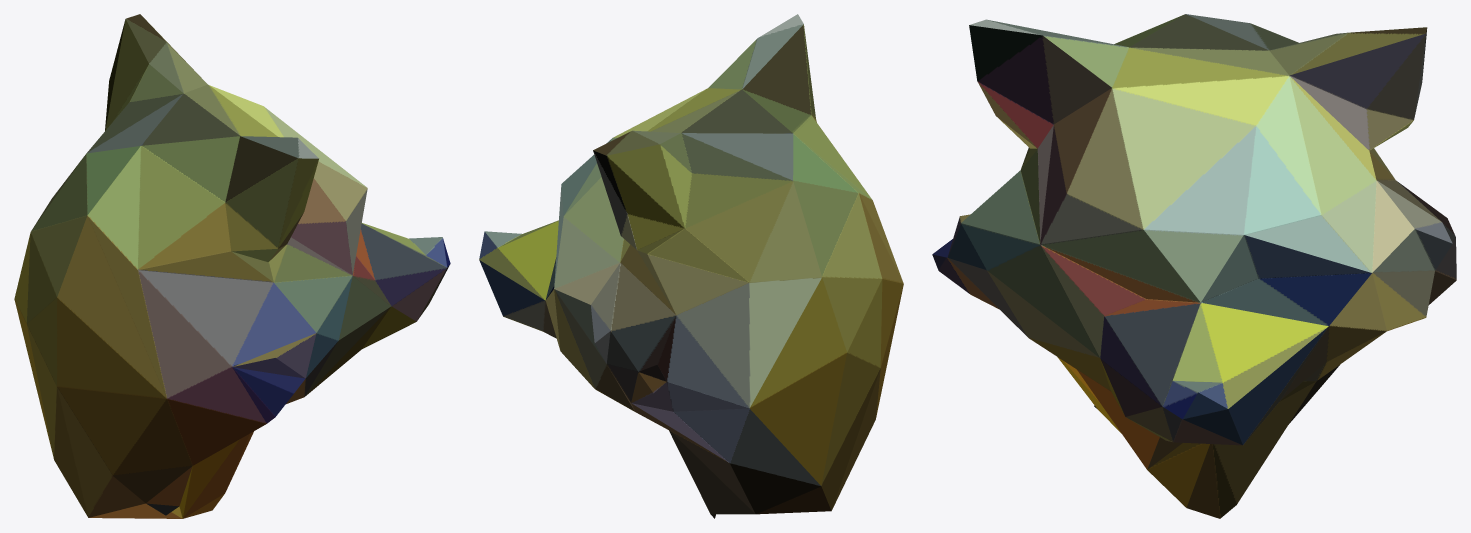
Rendered from raccoon.glb.
The picture shows the model from 3 angles, left to right: view 1: azimuth 30°, elevation 25°; view 2: azimuth 150°, elevation 25°; view 3: azimuth 270°, elevation 25°; orthographic projection. The views are drawn at different scales.
Size of the model in its own units: 1.15 by 1.19 by 1.12.
1 material, 1 textured.
